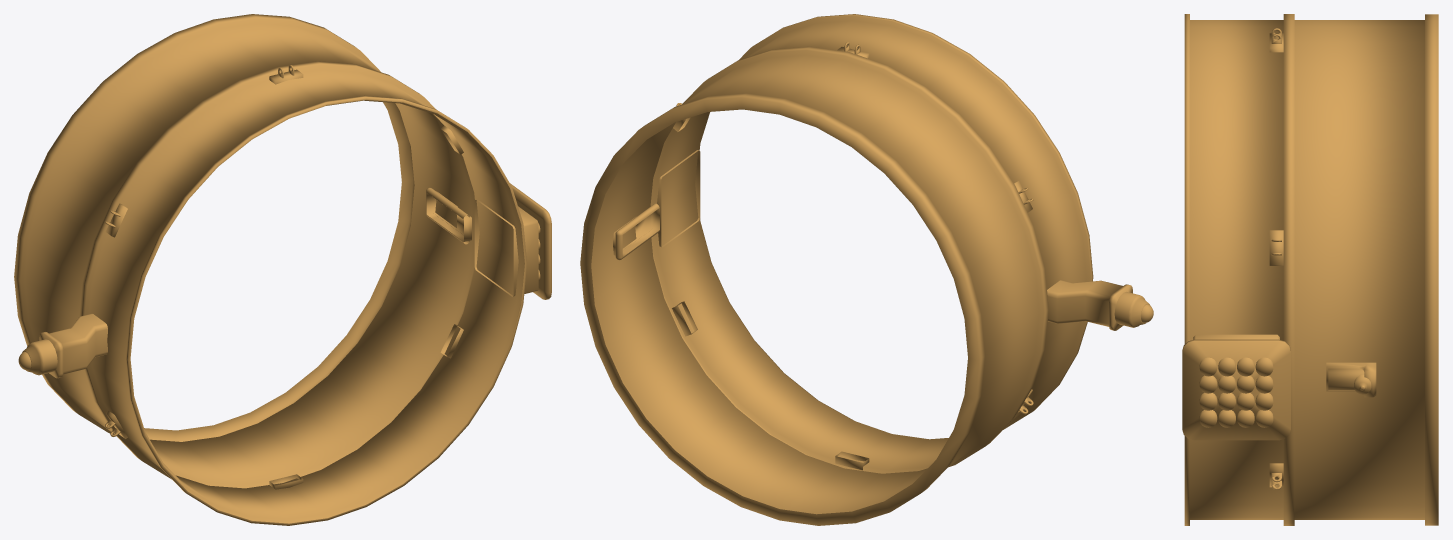
The model's file is Device compartment.fbx.
3 renders of one model, left to right at view 1: azimuth 30°, elevation 25°; view 2: azimuth 150°, elevation 25°; view 3: azimuth 270°, elevation 25°, orthographic. The views are drawn at different scales.
Parts seen in each view (by area): view 1: Device compartment; view 2: Device compartment; view 3: Device compartment.
Boxes of the visible parts, left/top/right/bottom form: Device compartment: left=14, top=14, right=551, bottom=525; Device compartment: left=580, top=14, right=1153, bottom=525; Device compartment: left=1182, top=14, right=1438, bottom=525.
Size of the model in its own units: 322 by 258 by 126.
